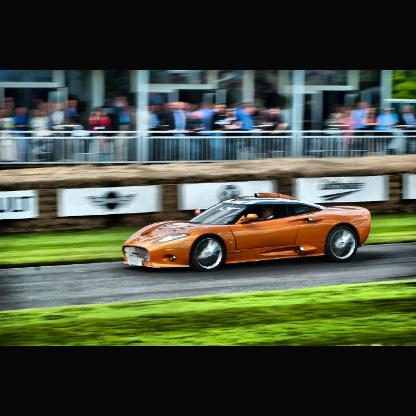Spyker C8 Coupe 2009: (121, 191, 372, 274)
